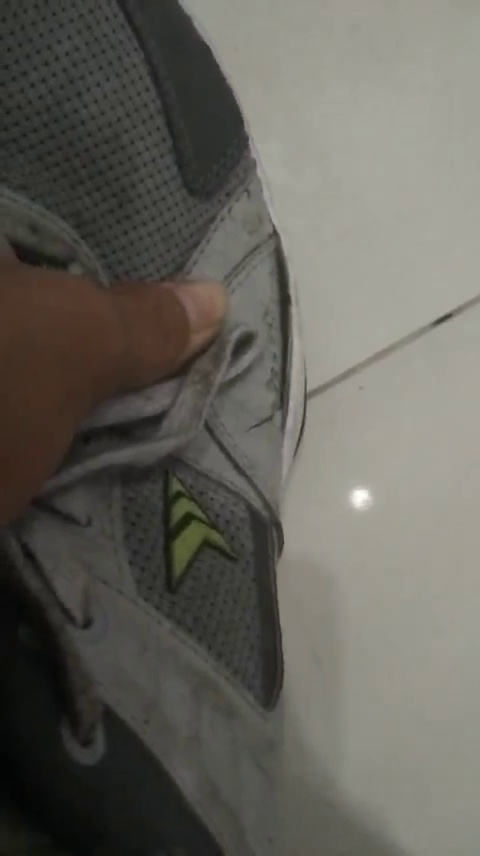bonding: (266, 225, 305, 433)
